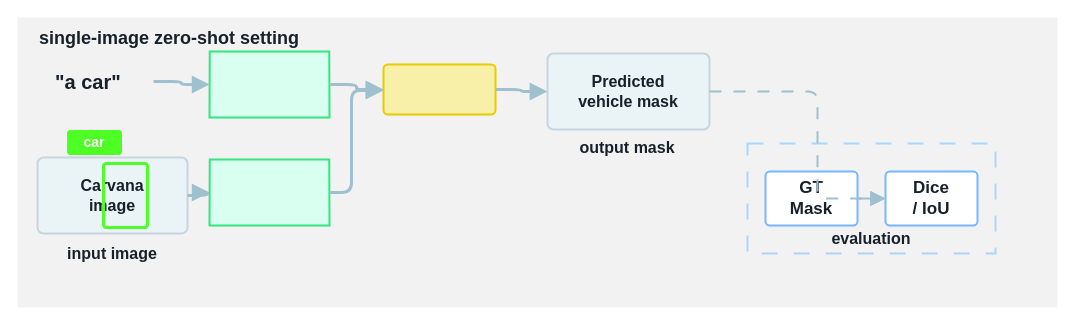
The diagram is 1074 pixels wide and 324 high, and some of its shapes have lost their labels. Each missing label, with the centre of its shape:
Detector: (x=439, y=89)
Image Encoder: (x=269, y=192)
Text Encoder: (x=269, y=84)
